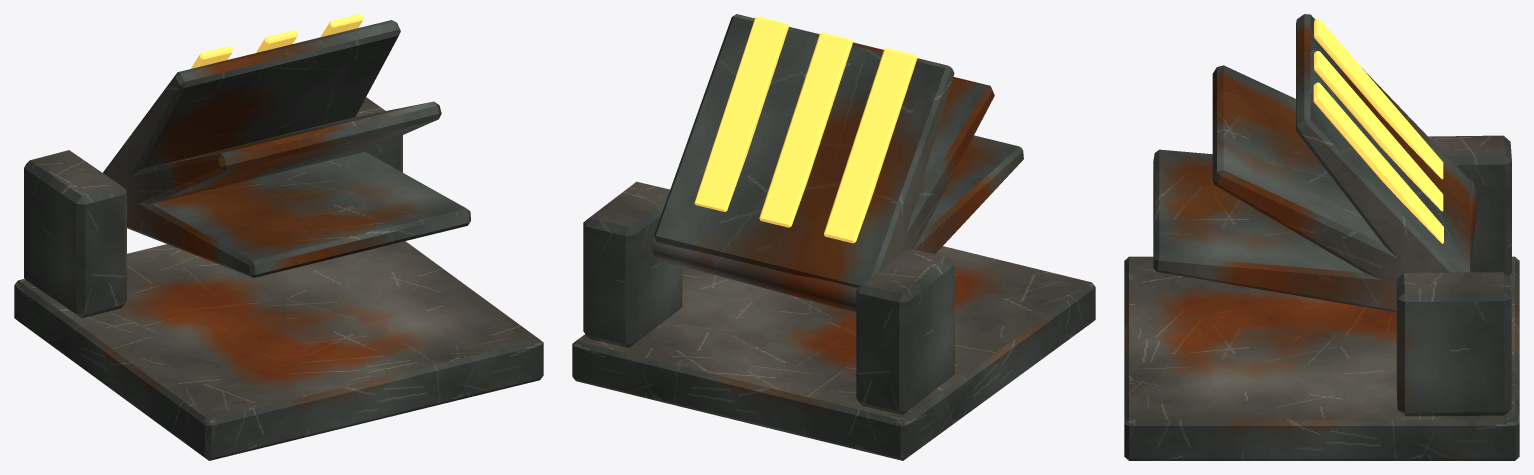
The model's file is R4X_RampDeployer_LOD1.glb.
3 views of the same model, side by side, from view 1: azimuth 30°, elevation 25°; view 2: azimuth 150°, elevation 25°; view 3: azimuth 270°, elevation 25° (orthographic). The views are drawn at different scales.
Parts seen in each view (by area): view 1: R4X_RampDeployer_LOD1; view 2: R4X_RampDeployer_LOD1; view 3: R4X_RampDeployer_LOD1.
Boxes of the visible parts, left/top/right/bottom form: R4X_RampDeployer_LOD1: left=14, top=14, right=543, bottom=460; R4X_RampDeployer_LOD1: left=572, top=14, right=1095, bottom=460; R4X_RampDeployer_LOD1: left=1124, top=14, right=1519, bottom=460.
Bounding box in the file's own units: 0.52 × 0.4672 × 0.52.
Materials: 4 (3 with a texture image).
